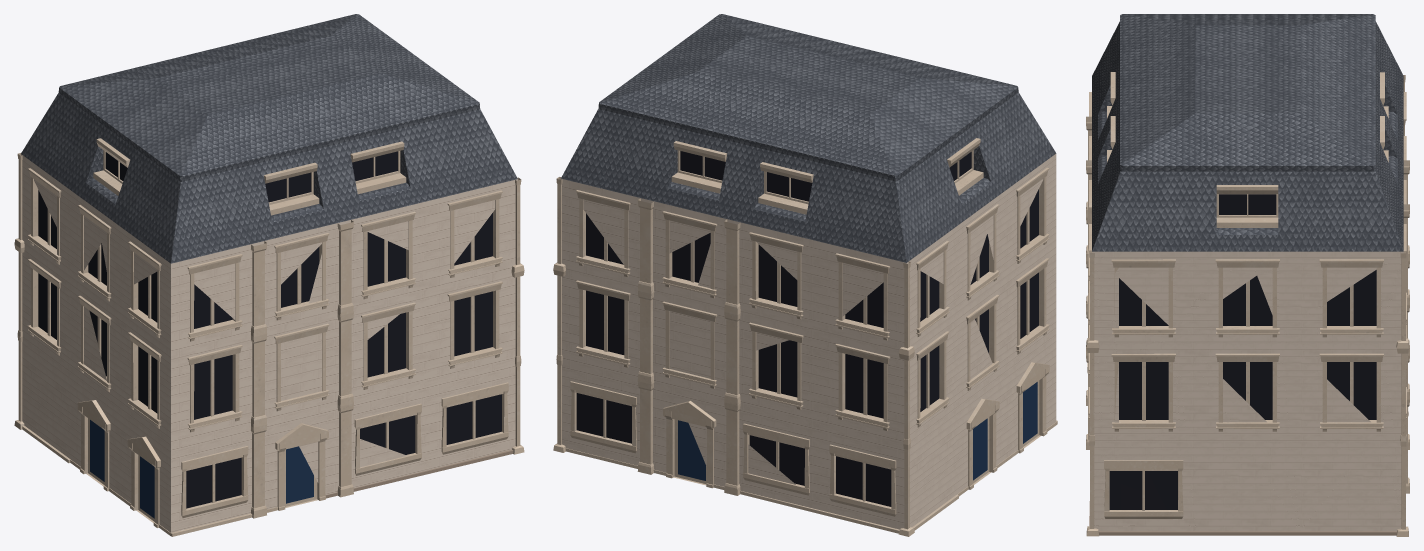
File: Hausmann2.fbx
3 renders of one model, left to right at view 1: azimuth 30°, elevation 25°; view 2: azimuth 150°, elevation 25°; view 3: azimuth 270°, elevation 25°, orthographic. The views are drawn at different scales.
Parts seen in each view (by area): view 1: Hausmann2_LOD0; view 2: Hausmann2_LOD0; view 3: Hausmann2_LOD0.
Part boxes in pixels (<box>): Hausmann2_LOD0: <box>14,14,524,536</box>; Hausmann2_LOD0: <box>553,14,1057,536</box>; Hausmann2_LOD0: <box>1086,14,1409,536</box>.
Size of what is drawn, in the model's own units: 1232 by 1201 by 935.
